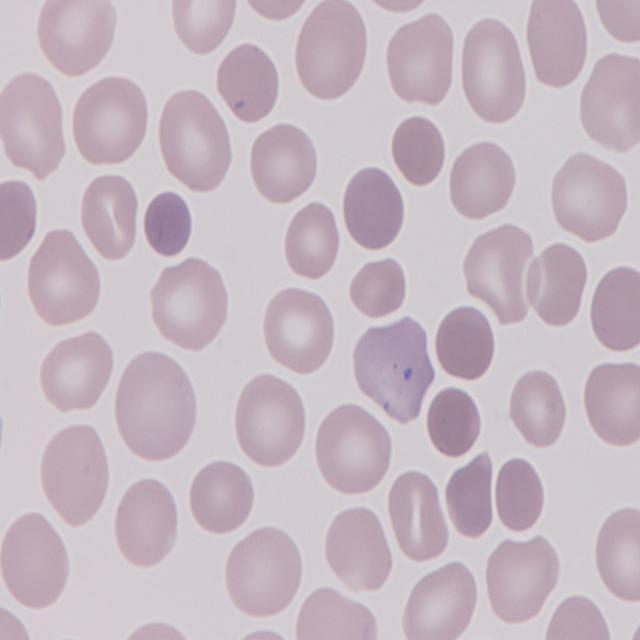RBC: (114, 351, 201, 464), (457, 14, 533, 125), (353, 317, 433, 422), (290, 0, 372, 102), (156, 91, 236, 195), (313, 402, 396, 500), (222, 525, 300, 626), (39, 423, 114, 528), (70, 78, 153, 172), (25, 230, 104, 328), (482, 533, 562, 629), (235, 371, 312, 470), (0, 70, 69, 180), (548, 151, 626, 248), (148, 258, 230, 350), (382, 10, 460, 106), (112, 472, 184, 572), (262, 288, 340, 380), (0, 509, 72, 608), (39, 331, 117, 418), (400, 559, 483, 640), (320, 504, 392, 597), (446, 137, 518, 226), (246, 121, 322, 205), (522, 0, 591, 90), (80, 169, 146, 263), (579, 53, 640, 154), (214, 40, 284, 128), (40, 0, 120, 76), (386, 470, 449, 564), (527, 240, 592, 329), (506, 368, 570, 450), (187, 460, 255, 536), (582, 360, 640, 448), (281, 200, 342, 282), (589, 264, 640, 356), (593, 504, 640, 603), (348, 254, 410, 320), (296, 588, 372, 640), (170, 0, 240, 56), (0, 170, 41, 264), (542, 595, 611, 640), (593, 0, 640, 44), (360, 1, 442, 20), (0, 608, 33, 637)
Spherocyte: (340, 162, 410, 255), (432, 300, 499, 385), (493, 454, 552, 538), (389, 110, 449, 188), (428, 382, 484, 461), (138, 186, 194, 260)
